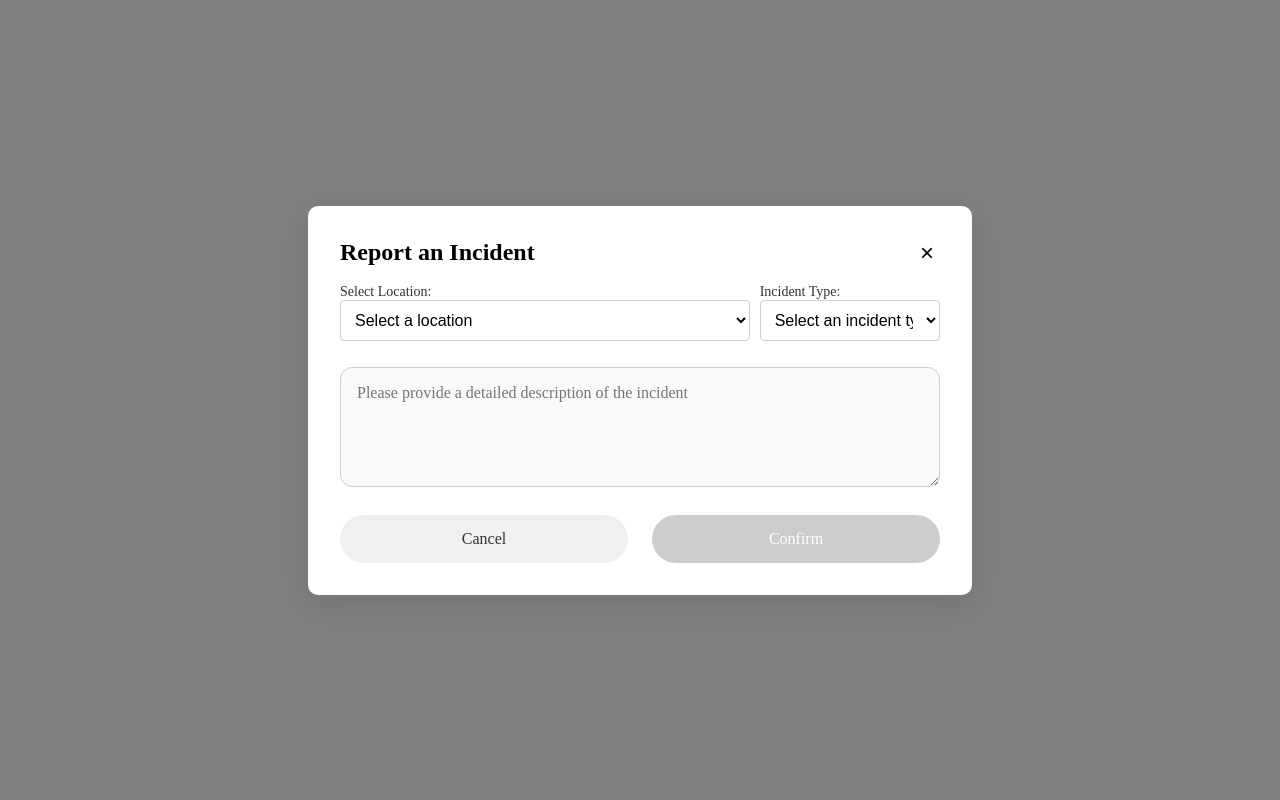
SecurityModal Component › should display error if form submission fails
Type "Test description" into the text box with placeholder "Please provide a detailed description of the incident" at [640, 426], box [340, 366, 940, 486]
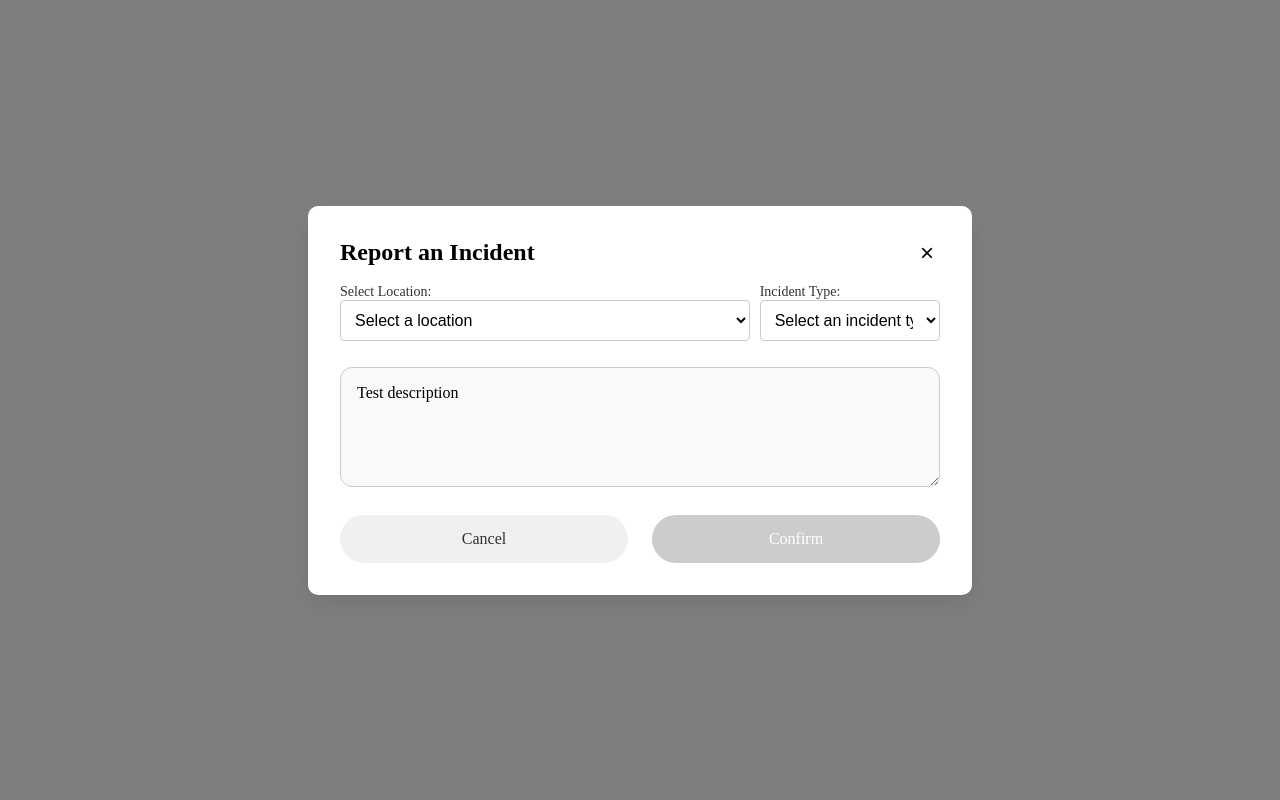
Select a location
Select "TW Kambule Mathematical Sciences Building" in the dropdown labelled "Select Location:" at [545, 320], box [340, 300, 750, 340]
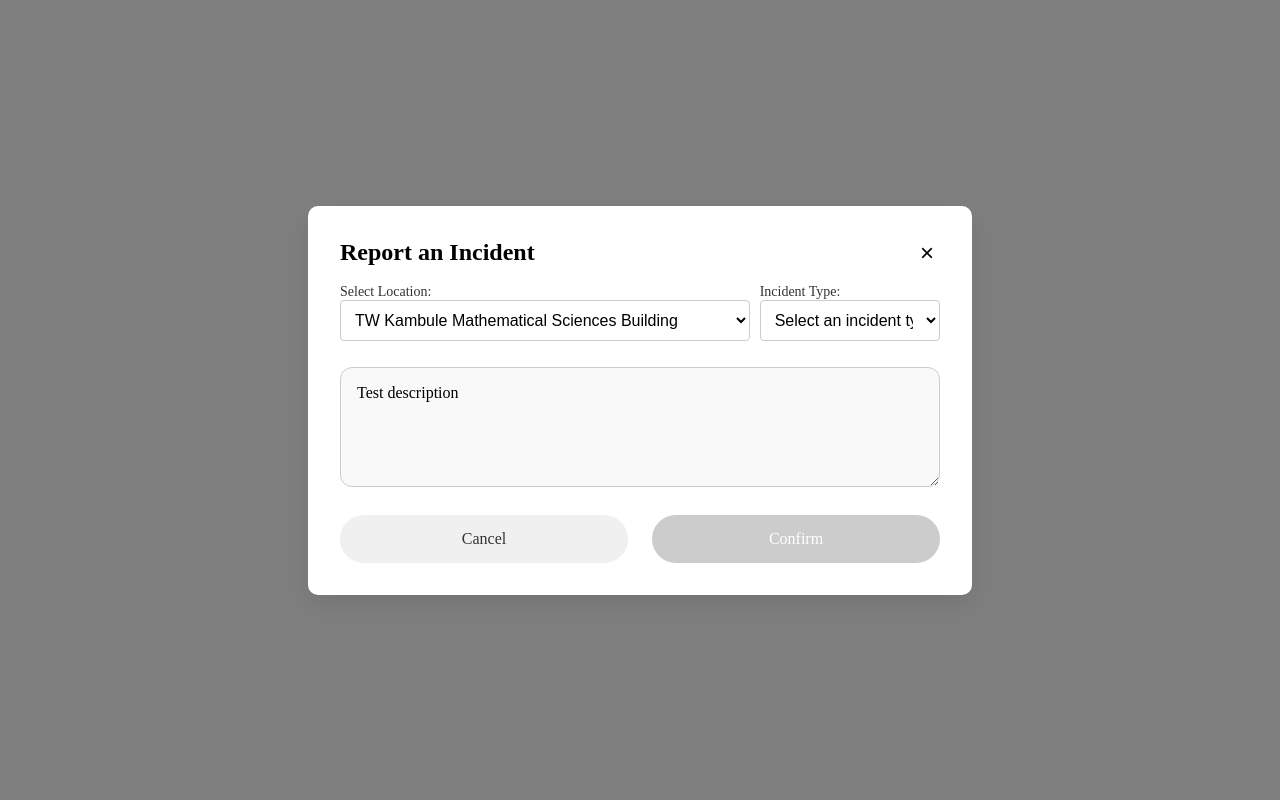
Select an incident type
Select "fire" in the dropdown labelled "Incident Type:" at [850, 320], box [760, 300, 940, 340]
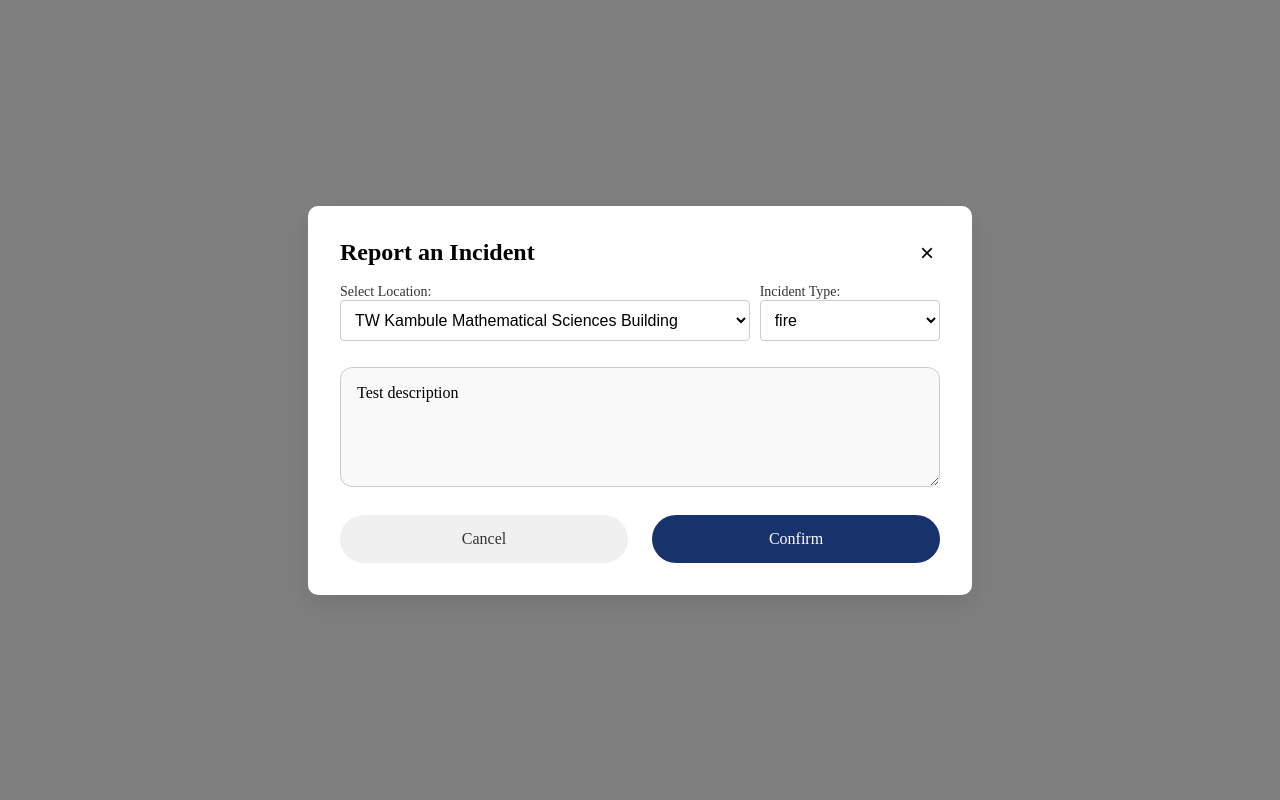
Submit the form
Click the button "Confirm" at [796, 538], box [652, 514, 940, 562]
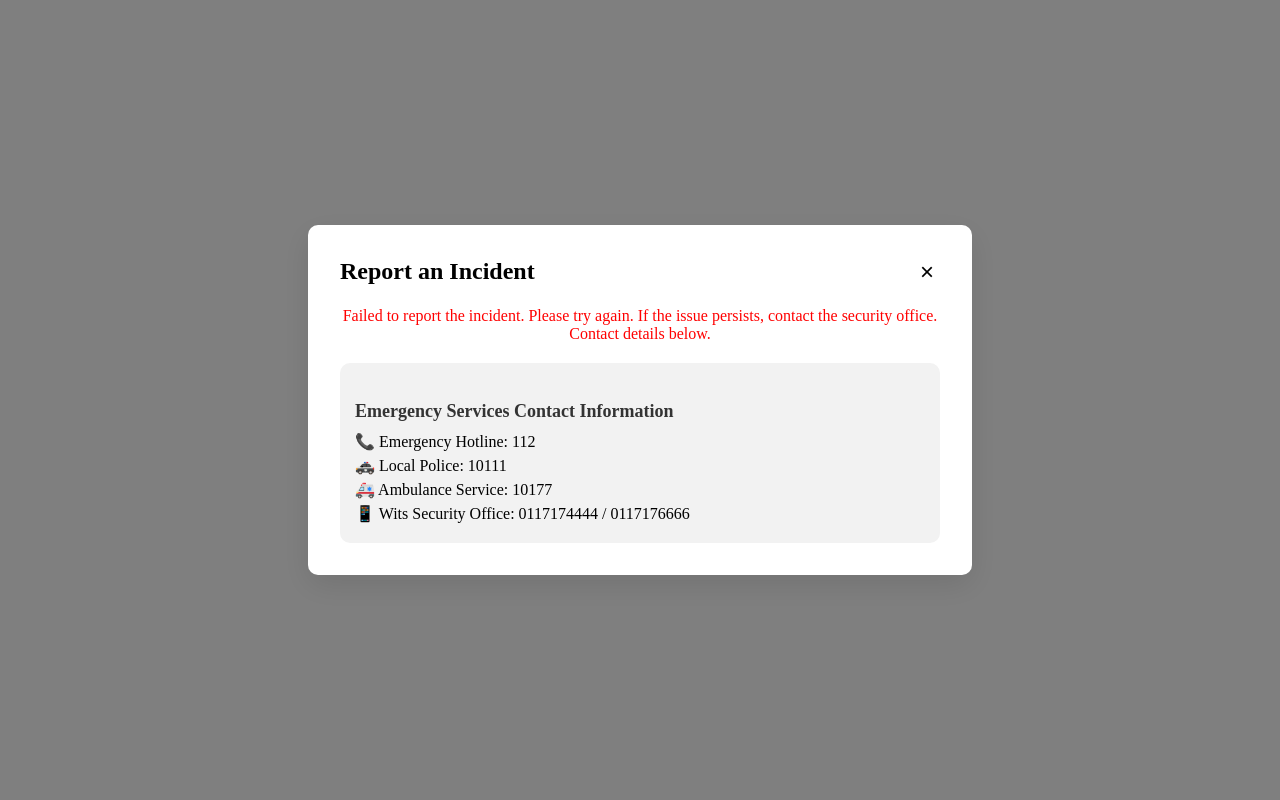
Result: the text "Failed to report the incident. Please try again. If the issue persists, contact the security office. Contact details bel" is shown at [343, 306, 937, 342]
